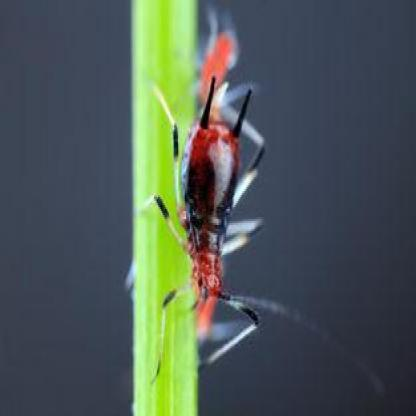aphid: (130, 73, 288, 375)
